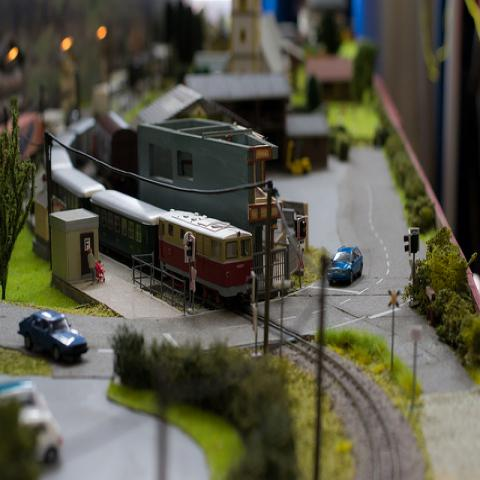car: (0, 376, 65, 457), (16, 308, 90, 364), (327, 246, 363, 286)
